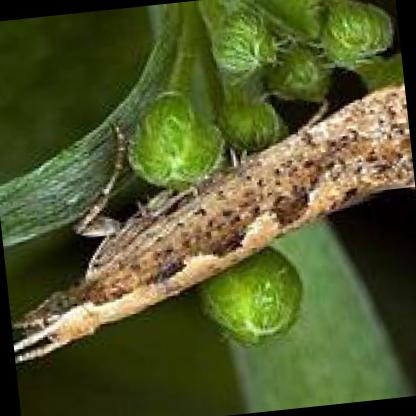plutella: (10, 83, 413, 368)
